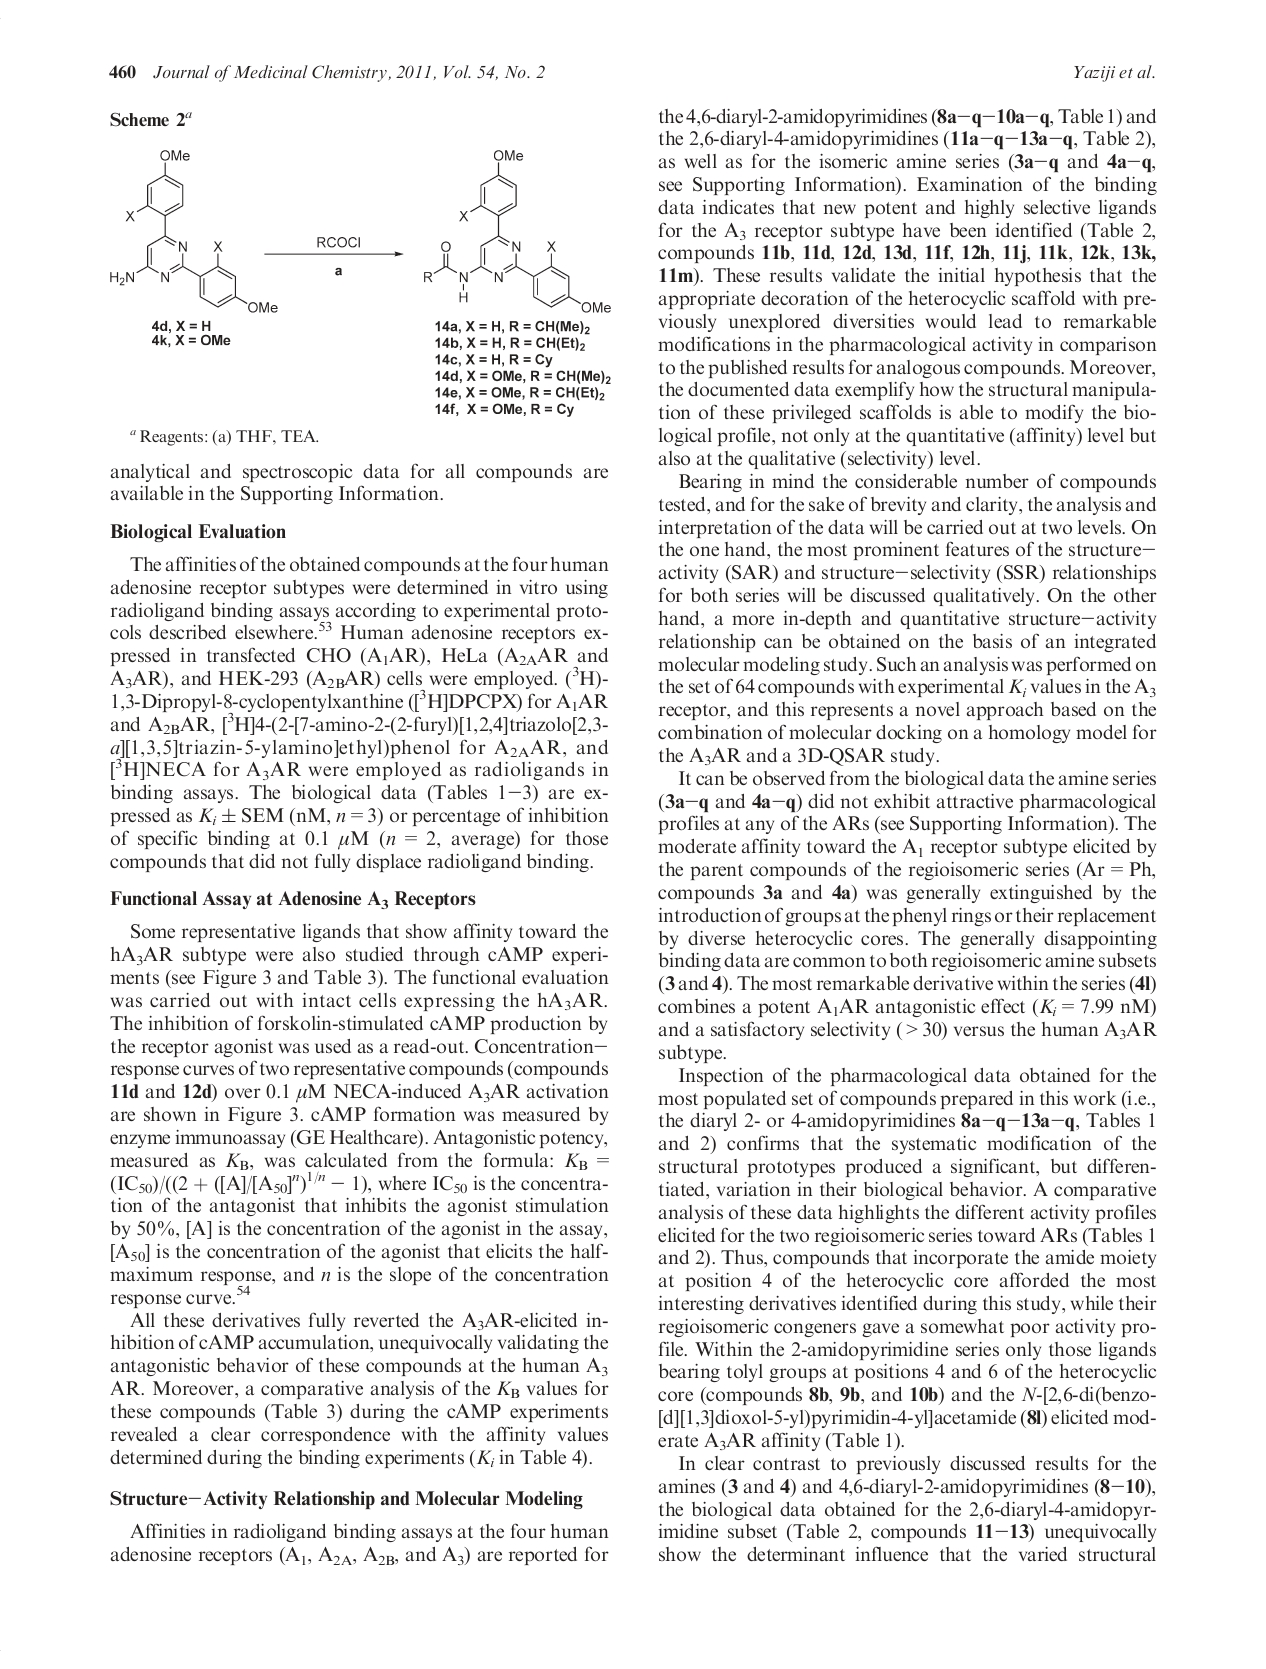exist_molecular: (420, 146, 618, 318), (106, 148, 285, 322)
